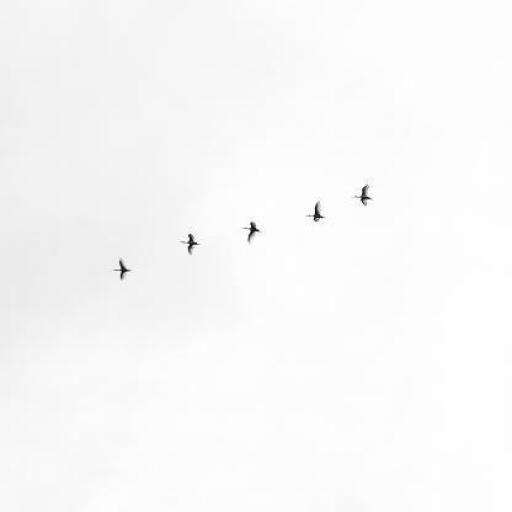bird: (178, 233, 202, 254), (305, 201, 326, 223), (353, 184, 373, 206), (242, 221, 261, 243), (113, 260, 132, 279)
